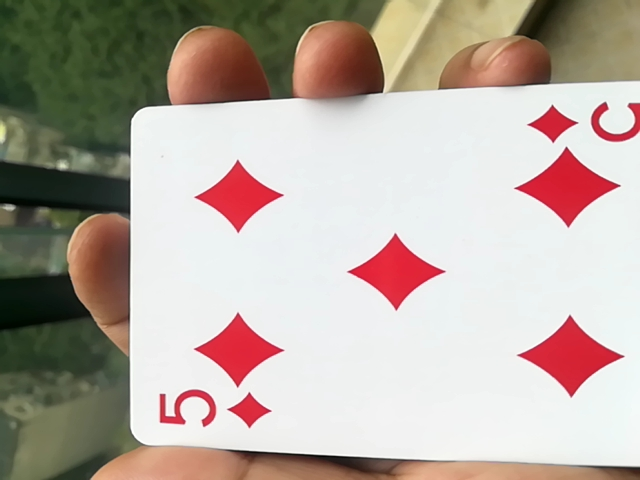fk 5: (118, 94, 637, 477)
